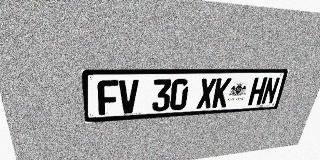0: (169, 79, 189, 111)
3: (152, 79, 172, 112)
F: (97, 80, 118, 115)
H: (248, 77, 268, 105)
K: (212, 78, 232, 108)
N: (260, 77, 281, 105)
V: (119, 80, 139, 114)
X: (196, 78, 217, 109)
